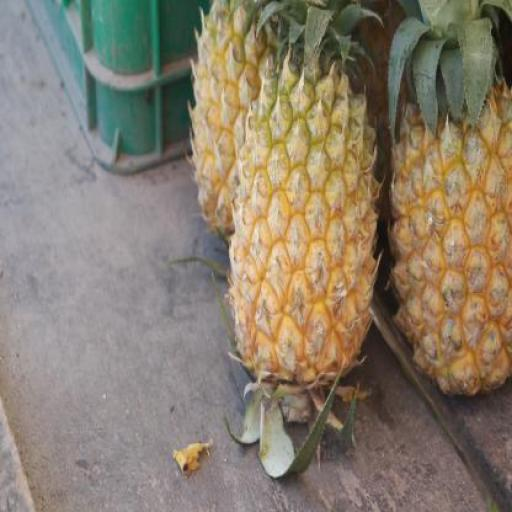Pineapple - v8 v1: (232, 61, 378, 385), (392, 91, 510, 398), (194, 0, 290, 241)
